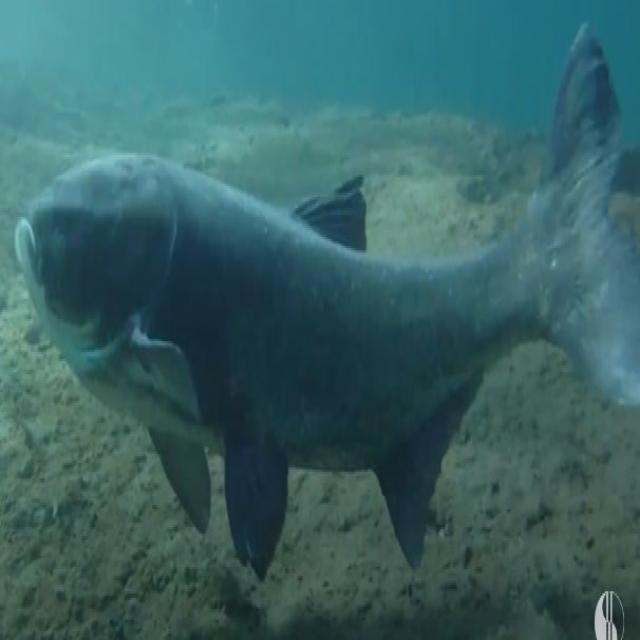Big-Head-Carp: (9, 31, 640, 573)
